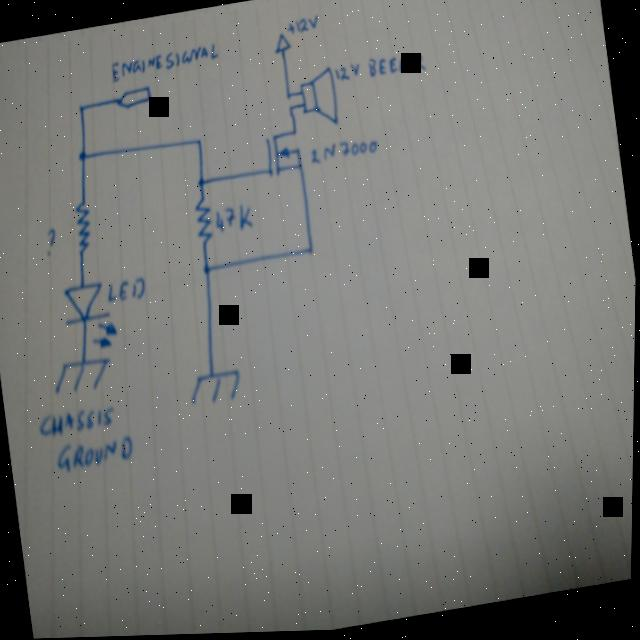diode: (57, 278, 121, 356)
ground: (50, 353, 116, 399), (186, 367, 246, 410)
junction: (76, 149, 88, 164), (303, 244, 316, 257), (201, 263, 212, 278), (195, 177, 205, 190), (193, 137, 202, 148), (77, 103, 84, 114), (285, 90, 292, 101), (287, 105, 294, 115)
resistor: (190, 196, 217, 251), (71, 198, 96, 255)
source: (269, 32, 292, 57)
terminal: (114, 85, 152, 111)
text: (108, 42, 220, 84), (52, 431, 139, 477), (36, 399, 119, 440), (306, 135, 382, 170), (364, 50, 427, 84), (212, 202, 256, 237), (104, 275, 150, 306), (283, 14, 321, 38), (331, 61, 362, 88), (41, 224, 59, 257)
transistor: (260, 127, 306, 182)
